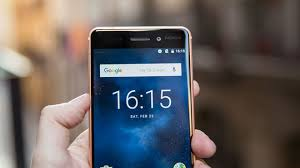nokia: (89, 23, 195, 168)
